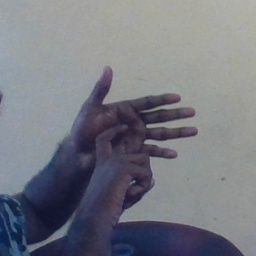R: (58, 64, 202, 210)
